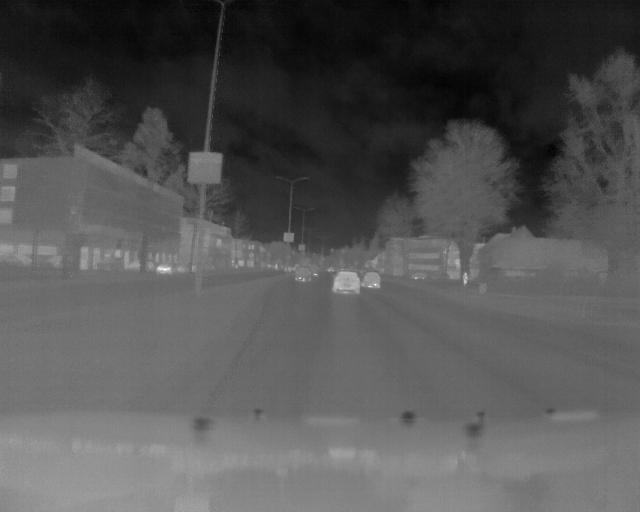car: (332, 269, 361, 297), (361, 271, 381, 290)
